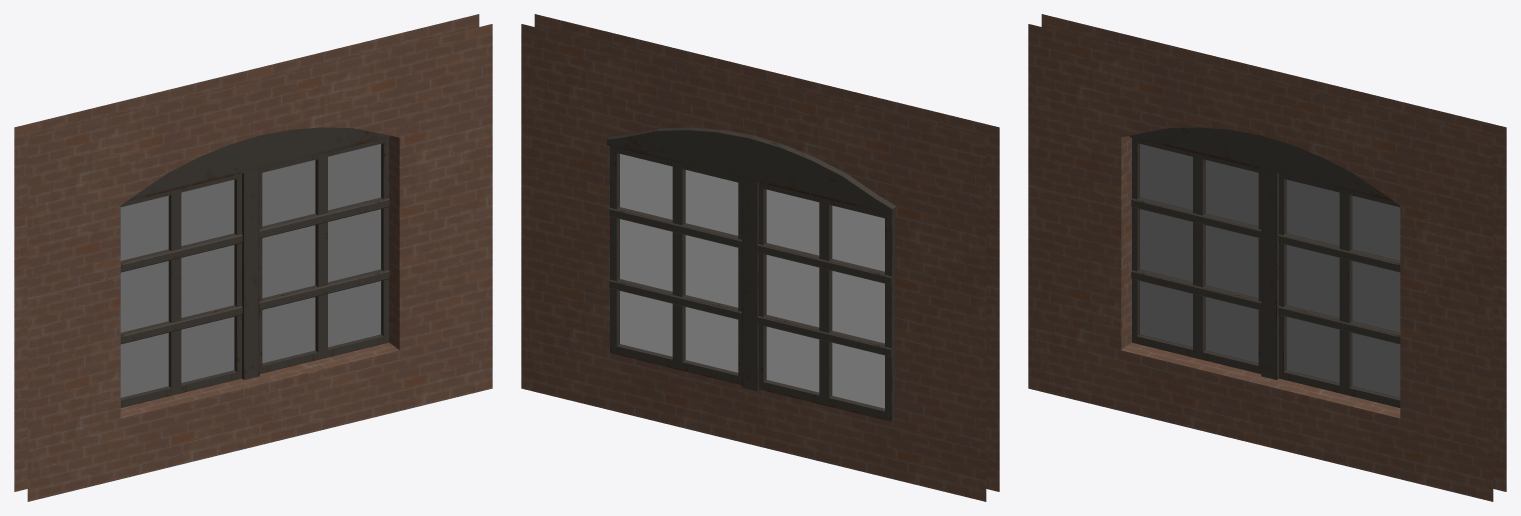
Rendered from Brick_Window_CurvedDouble.gltf.
3 renders of one model, left to right at view 1: azimuth 30°, elevation 25°; view 2: azimuth 150°, elevation 25°; view 3: azimuth 330°, elevation 25°, orthographic.
Parts seen in each view (by area): view 1: Brick_Window_CurvedDouble; view 2: Brick_Window_CurvedDouble; view 3: Brick_Window_CurvedDouble.
Part boxes in pixels (<box>): Brick_Window_CurvedDouble: <box>14,14,492,501</box>; Brick_Window_CurvedDouble: <box>521,14,999,501</box>; Brick_Window_CurvedDouble: <box>1028,14,1506,501</box>.
Bounding box in the file's own units: 4 × 3 × 0.2605.
5 materials, 3 textured.
